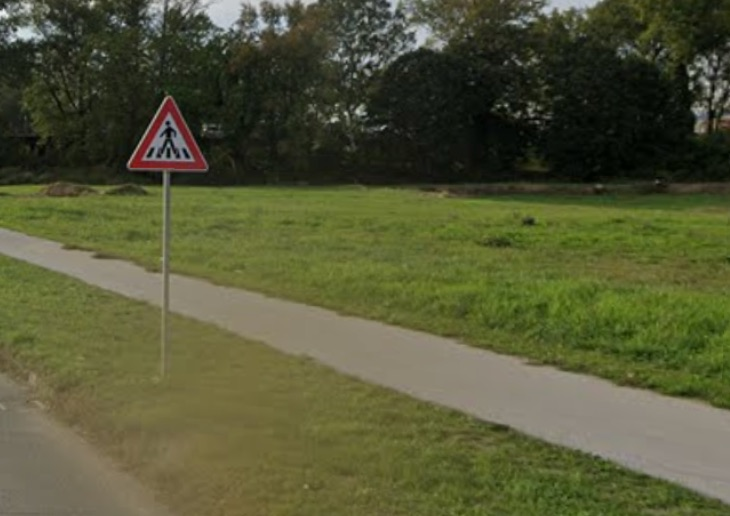Približavanje pješačkom prijelazu: (126, 95, 211, 172)
